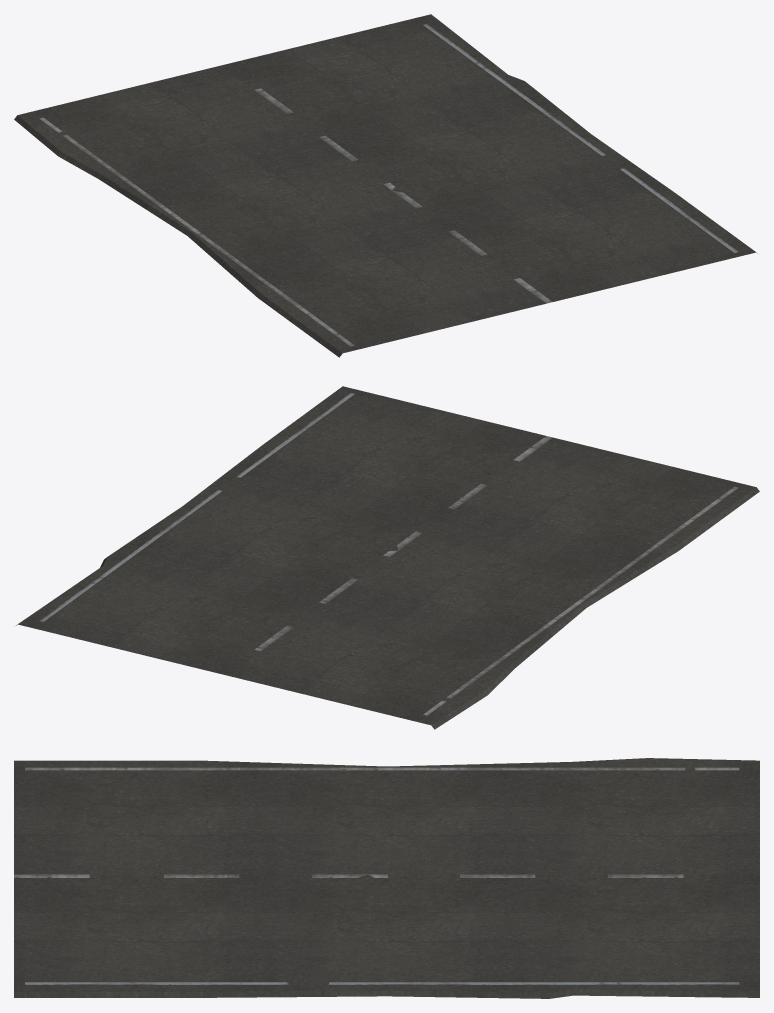
File: bz_road_big_01.fbx
The picture shows the model from 3 angles, top to bottom: view 1: azimuth 30°, elevation 25°; view 2: azimuth 150°, elevation 25°; view 3: azimuth 270°, elevation 25°; orthographic projection. The views are drawn at different scales.
Visible parts, largest first — view 1: bz__Broad_01; view 2: bz__Broad_01; view 3: bz__Broad_01.
Boxes of the visible parts, left/top/right/bottom form: bz__Broad_01: left=14, top=14, right=757, bottom=357; bz__Broad_01: left=16, top=386, right=759, bottom=729; bz__Broad_01: left=14, top=758, right=759, bottom=998.
Size of the model in its own units: 7.57 by 0.0601 by 10.
